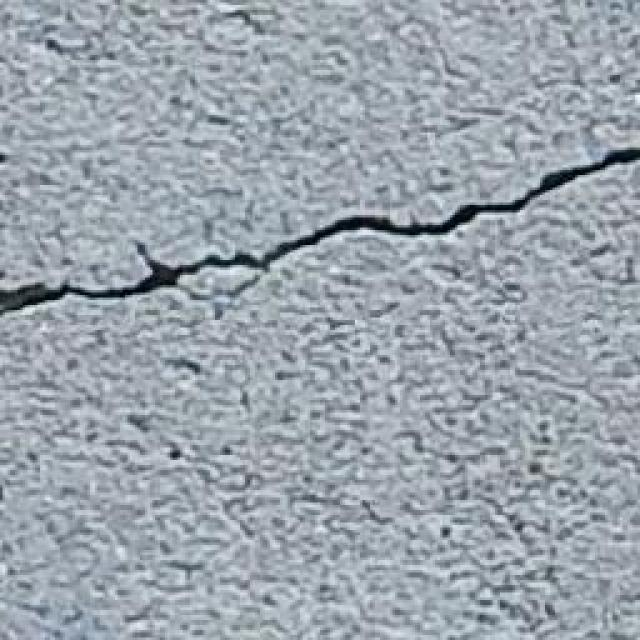concrete-crack: (0, 139, 640, 321)
